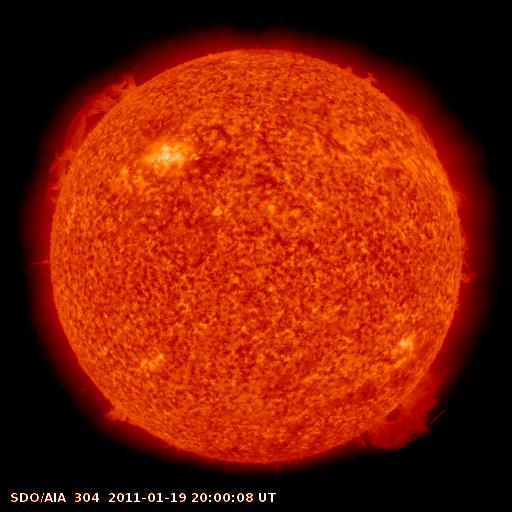prominence: (33, 63, 154, 205), (343, 339, 466, 463), (445, 187, 488, 290), (78, 387, 139, 437), (405, 108, 450, 161), (340, 52, 382, 94), (16, 245, 58, 282)
